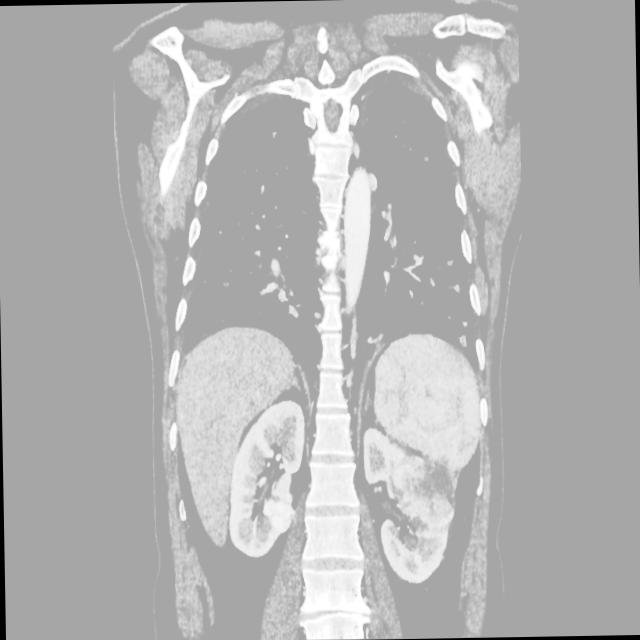TUMOR: (112, 234, 543, 563)
